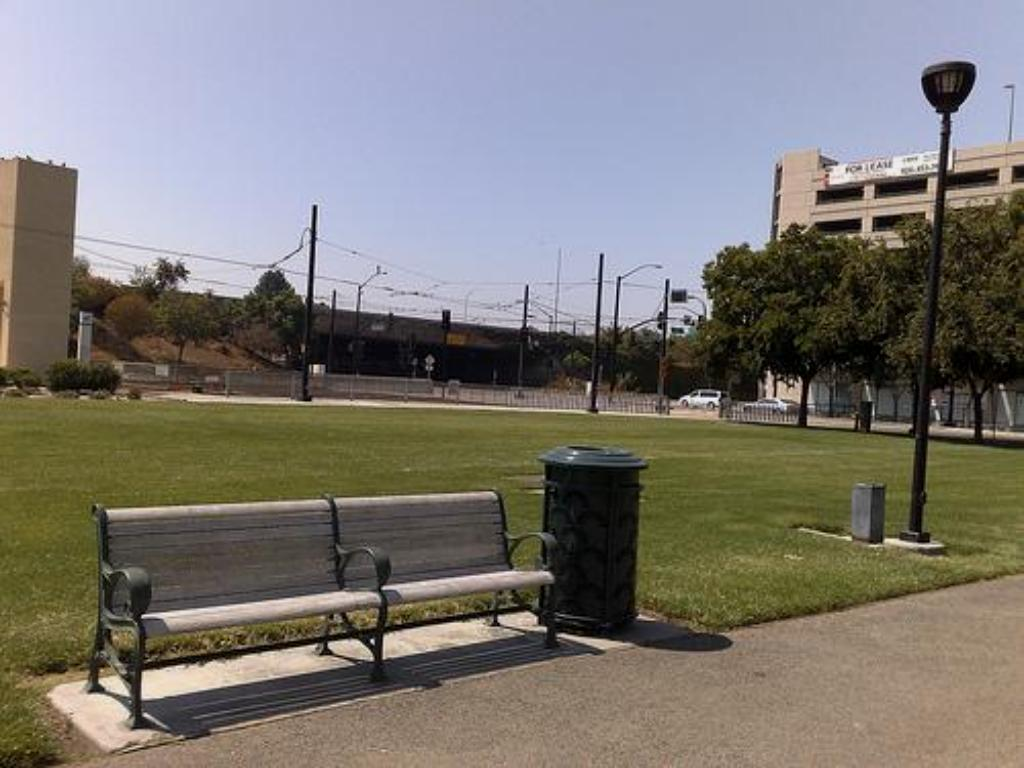dustbin: (529, 425, 662, 636)
